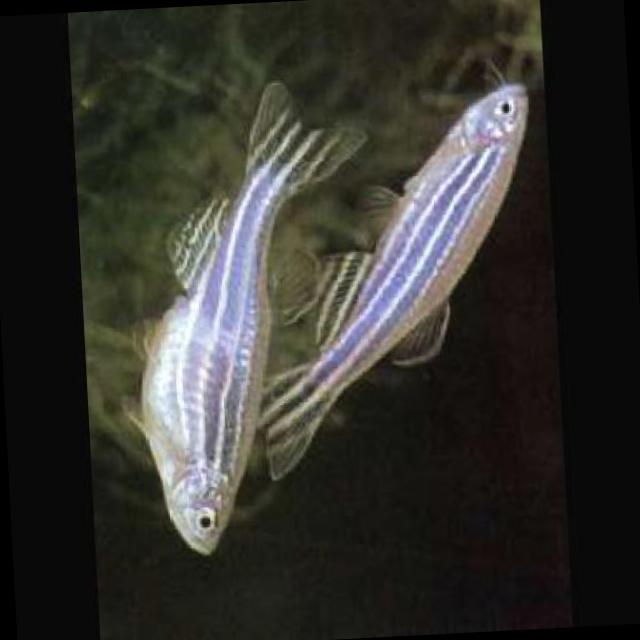ZebraFish: (117, 93, 394, 560), (242, 80, 550, 478)
